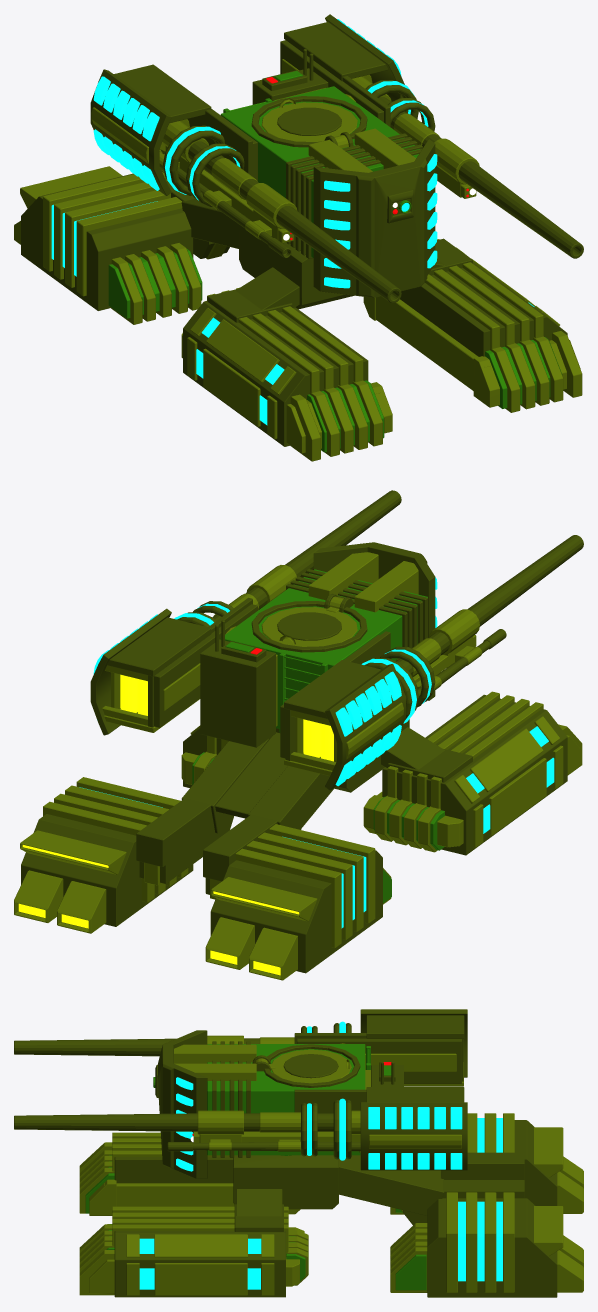
3 renders of one model, top to bottom at view 1: azimuth 30°, elevation 25°; view 2: azimuth 150°, elevation 25°; view 3: azimuth 270°, elevation 25°, orthographic. The views are drawn at different scales.
Parts seen in each view (by area): view 1: Cube_9_5, Cube_1_7, Cube_7_5, Tube_4, Cube_9, Upper_Base, Cube_6_5, Cube_4_5, Lower_Base, Lower_Base_5, Cube_2_6, Cube_7_4 (+43 smaller); view 2: Cube_7_5, Cube_2_7, Cube_1_7, Hind_Leg, Cube_9, Upper_Base, Lower_Base_9, Lower_Base_2_5, Tube_4, Cube_4_5, Lower_Base_17, Lower_Base_8 (+37 smaller); view 3: Cube_7_5, Cube_1_7, Tube_4, Cube_4_5, Lower_Base, Upper_Base, Cube_9, Cube_9_5, Hind_Leg, Cube_7_4, Lower_Base_2_5, Cube_6_5 (+52 smaller).
Part boxes in pixels (bbox=[...]): Cube_9_5: bbox=[313, 139, 435, 297]; Cube_1_7: bbox=[183, 263, 567, 446]; Cube_7_5: bbox=[21, 173, 193, 310]; Tube_4: bbox=[276, 161, 583, 302]; Cube_9: bbox=[114, 22, 388, 123]; Upper_Base: bbox=[220, 86, 419, 257]; Cube_6_5: bbox=[375, 296, 491, 394]; Cube_4_5: bbox=[90, 14, 404, 195]; Lower_Base: bbox=[239, 215, 353, 309]; Lower_Base_5: bbox=[286, 340, 580, 453]; Cube_2_6: bbox=[308, 128, 415, 172]; Cube_7_4: bbox=[203, 348, 260, 426]; Cube_7_5: bbox=[21, 814, 382, 973]; Cube_2_7: bbox=[200, 639, 275, 747]; Cube_1_7: bbox=[183, 694, 567, 855]; Hind_Leg: bbox=[181, 736, 335, 833]; Cube_9: bbox=[107, 617, 381, 718]; Upper_Base: bbox=[220, 569, 427, 728]; Lower_Base_9: bbox=[20, 830, 317, 921]; Lower_Base_2_5: bbox=[136, 798, 277, 881]; Tube_4: bbox=[285, 490, 583, 626]; Cube_4_5: bbox=[90, 608, 405, 790]; Lower_Base_17: bbox=[57, 881, 254, 969]; Lower_Base_8: bbox=[14, 870, 297, 980]; Cube_7_5: bbox=[427, 1120, 557, 1297]; Cube_1_7: bbox=[114, 1157, 285, 1297]; Tube_4: bbox=[14, 1038, 197, 1131]; Cube_4_5: bbox=[360, 1009, 467, 1170]; Lower_Base: bbox=[233, 1155, 338, 1209]; Upper_Base: bbox=[207, 1044, 365, 1155]; Cube_9: bbox=[366, 1015, 464, 1102]; Cube_9_5: bbox=[158, 1030, 207, 1178]; Hind_Leg: bbox=[339, 1157, 444, 1215]; Cube_7_4: bbox=[154, 1263, 247, 1295]; Lower_Base_2_5: bbox=[441, 1152, 524, 1198]; Cube_6_5: bbox=[103, 1183, 234, 1206].
Bounding box in the file's own units: 5.39 × 4.1 × 10.8.
